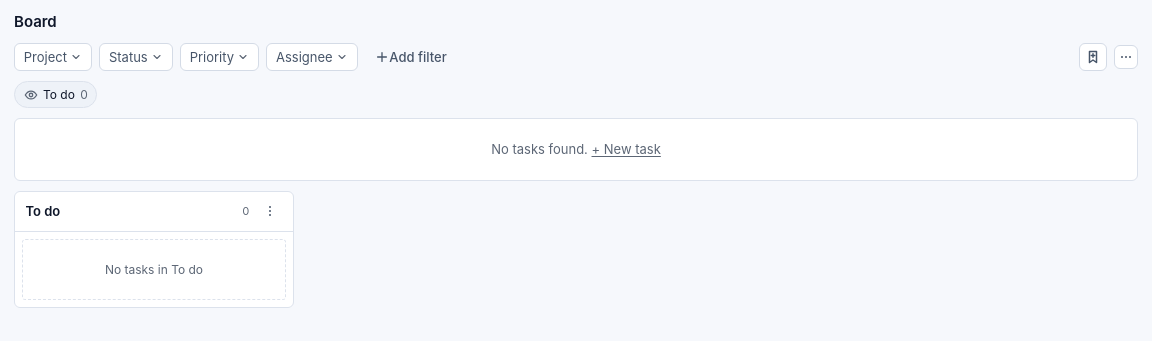
BoardView — column-header menu (BRD-52, K100) › renders a menu on each column header with the three items
This screenshot has width=1152, height=341.
Click the button with test id "board-column-menu-todo" at [270, 211], box 258,199 -> 282,224
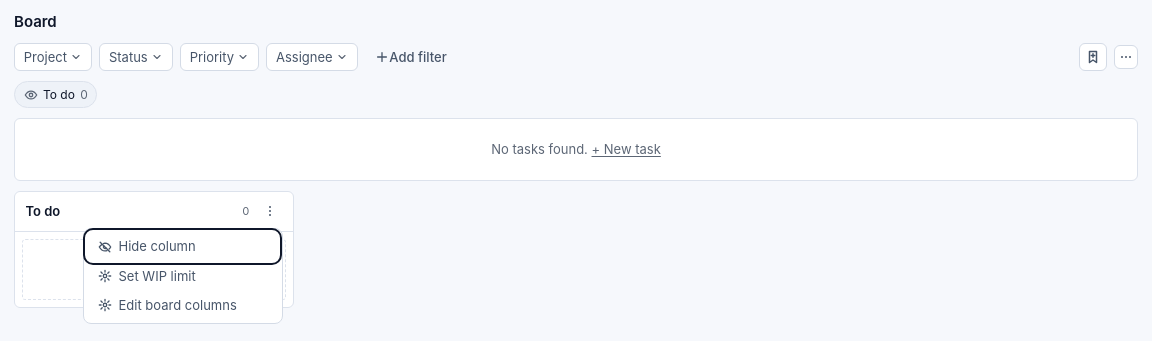
Check: the menu item with test id "board-column-hide-todo" reads "Hide column", box 87,232 -> 278,261
Check: the menu item with test id "board-column-wip-todo" reads "Set WIP limit", box 98,268 -> 196,284
Check: the menu item with test id "board-column-edit-todo" reads "Edit board columns", box 98,297 -> 237,313
